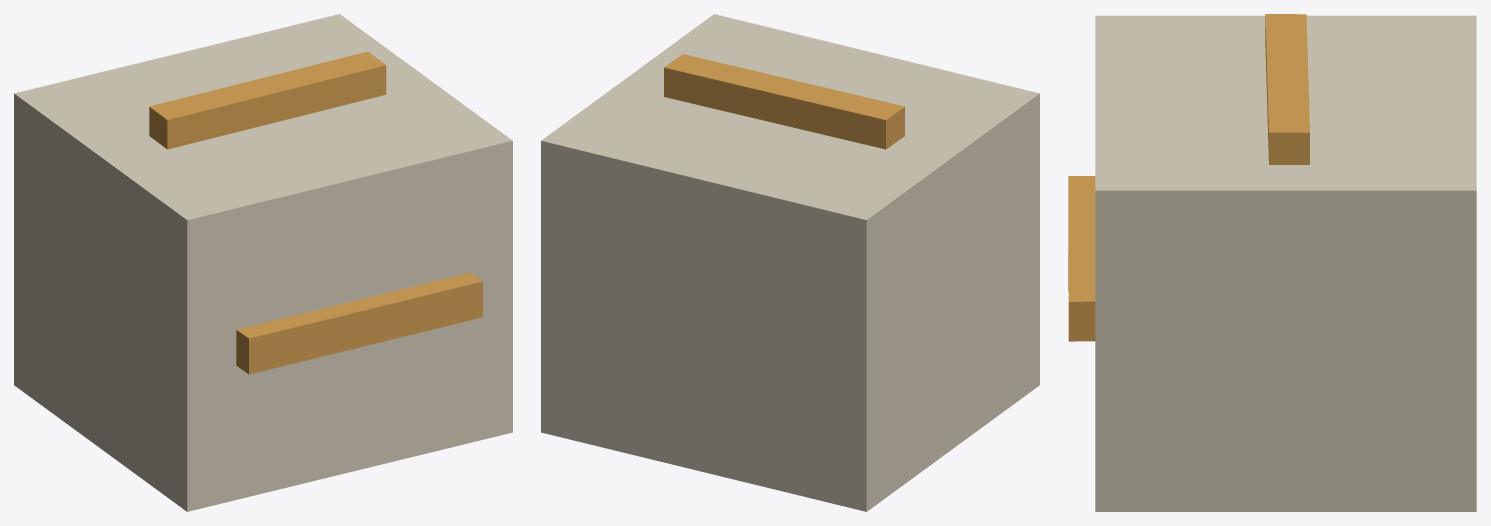
File: minus.glb
The picture shows the model from 3 angles, left to right: view 1: azimuth 30°, elevation 25°; view 2: azimuth 150°, elevation 25°; view 3: azimuth 270°, elevation 25°; orthographic projection. The views are drawn at different scales.
Visible parts, largest first — view 1: Mesh_Mesh_head_geo.001_lambert2SG.001; view 2: Mesh_Mesh_head_geo.001_lambert2SG.001; view 3: Mesh_Mesh_head_geo.001_lambert2SG.001.
Boxes of the visible parts, left/top/right/bottom form: Mesh_Mesh_head_geo.001_lambert2SG.001: left=14, top=14, right=512, bottom=511; Mesh_Mesh_head_geo.001_lambert2SG.001: left=541, top=14, right=1039, bottom=511; Mesh_Mesh_head_geo.001_lambert2SG.001: left=1068, top=14, right=1476, bottom=511.
Bounding box in the file's own units: 0.139 × 0.131 × 0.137.
